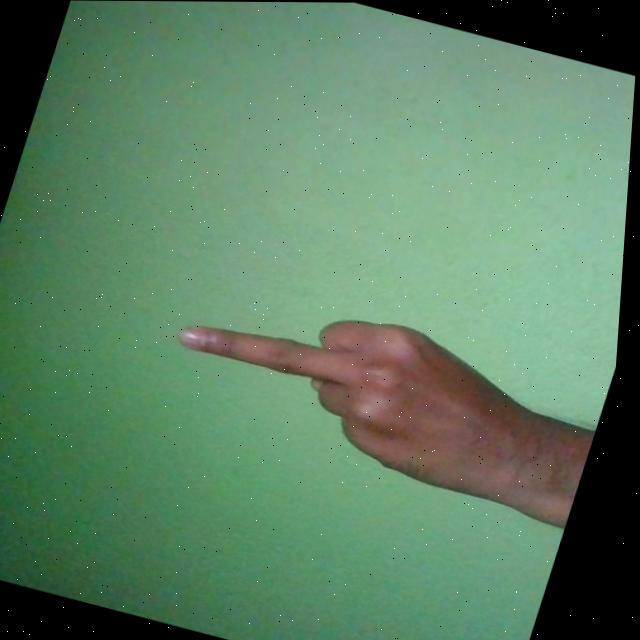Middle Finger: (152, 269, 609, 516)
